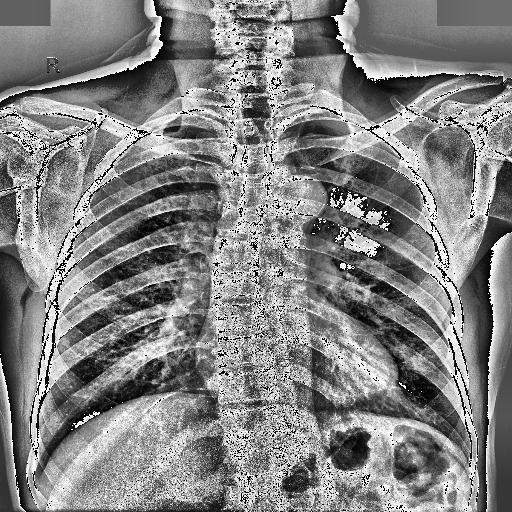0- Aortic enlargement: (268, 173, 326, 233), (264, 174, 328, 221), (264, 176, 326, 220)
11- Pleural thickening: (302, 116, 362, 134)
